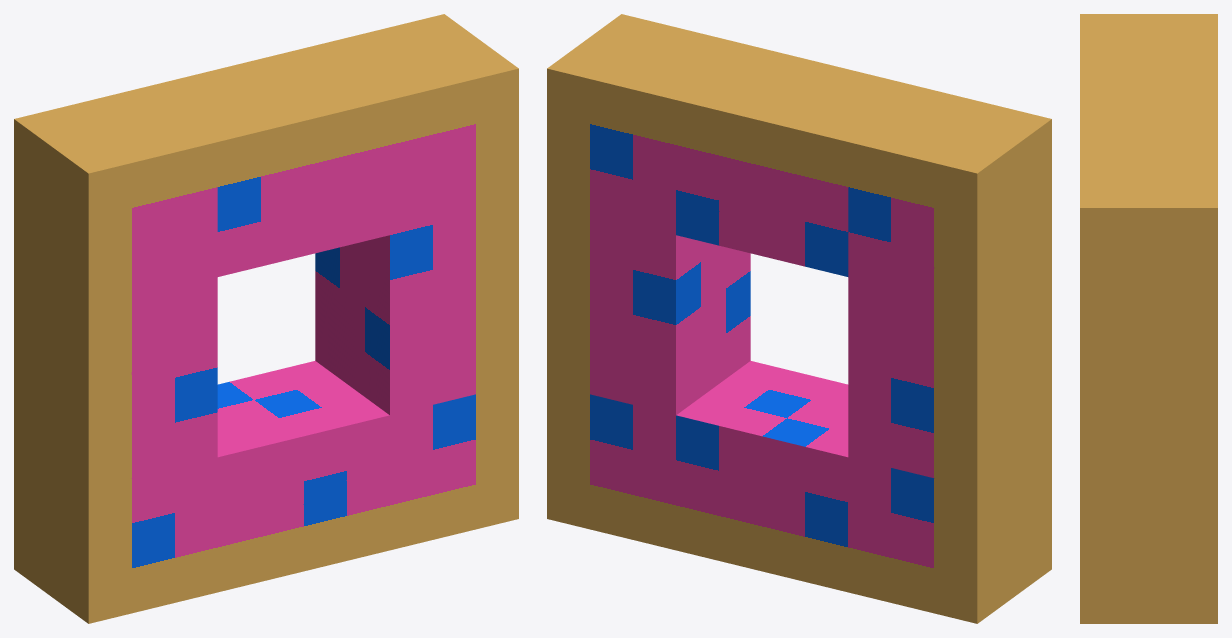
File: donut.fbx
The picture shows the model from 3 angles, left to right: view 1: azimuth 30°, elevation 25°; view 2: azimuth 150°, elevation 25°; view 3: azimuth 270°, elevation 25°; orthographic projection. The views are drawn at different scales.
Parts seen in each view (by area): view 1: cube, cube_1, cube_2, cube_3; view 2: cube, cube_1, cube_2, cube_3; view 3: cube_2, cube, cube_3, cube_1.
Part boxes in pixels (left/top/right/bottom): cube: left=14, top=361, right=518, bottom=623; cube_1: left=14, top=87, right=217, bottom=488; cube_2: left=315, top=14, right=518, bottom=415; cube_3: left=143, top=45, right=389, bottom=276; cube: left=547, top=361, right=1051, bottom=623; cube_1: left=848, top=87, right=1051, bottom=488; cube_2: left=547, top=14, right=750, bottom=415; cube_3: left=676, top=45, right=922, bottom=276; cube_2: left=1080, top=149, right=1217, bottom=499; cube: left=1080, top=499, right=1217, bottom=623; cube_3: left=1080, top=72, right=1217, bottom=149; cube_1: left=1080, top=14, right=1217, bottom=72.
Size of the model in its own units: 62.5 by 62.5 by 18.75.
1 material, 1 textured.
